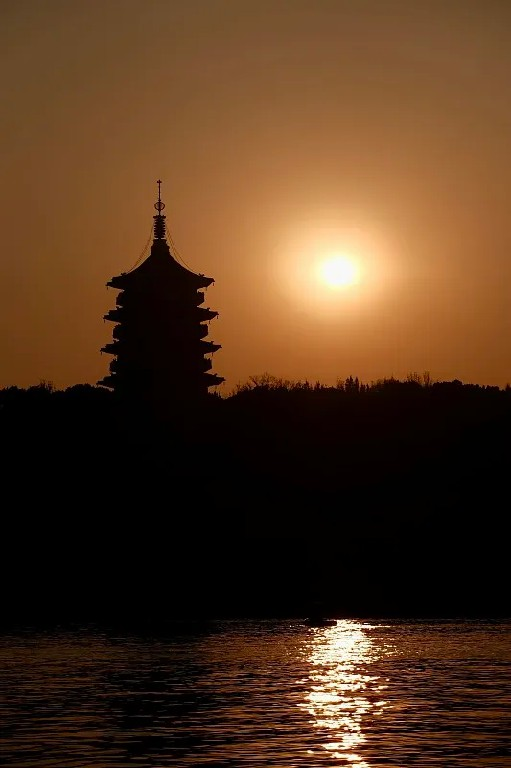Leifeng: (97, 183, 225, 400)
